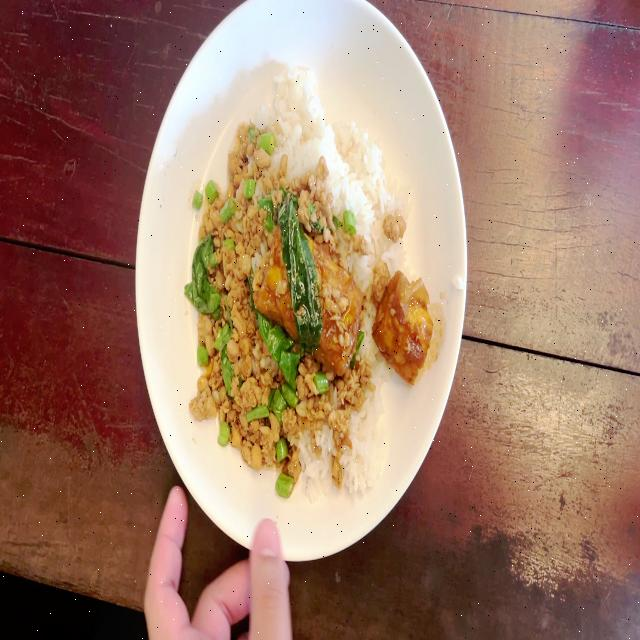fried_tofo: (260, 235, 356, 371), (379, 266, 428, 370)
minced_pork: (196, 180, 255, 468), (249, 326, 289, 484), (224, 120, 278, 235), (287, 345, 322, 492), (273, 172, 334, 230), (322, 372, 344, 490), (347, 354, 372, 414), (386, 214, 406, 240)
rice: (278, 68, 336, 172), (340, 123, 390, 241), (346, 412, 386, 490), (297, 432, 335, 492), (332, 146, 348, 208)
stir_fried_basil: (187, 65, 429, 498)
